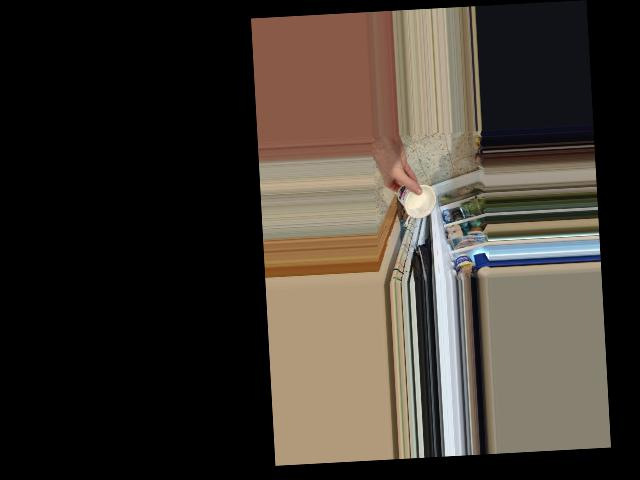cotage: (394, 179, 437, 223)
